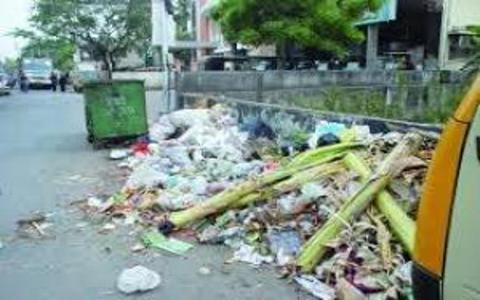overflowing garbage: (71, 77, 184, 202)
